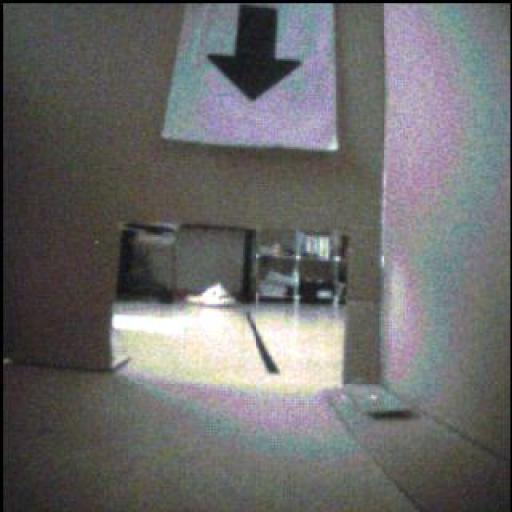arrow: (209, 6, 302, 102)
